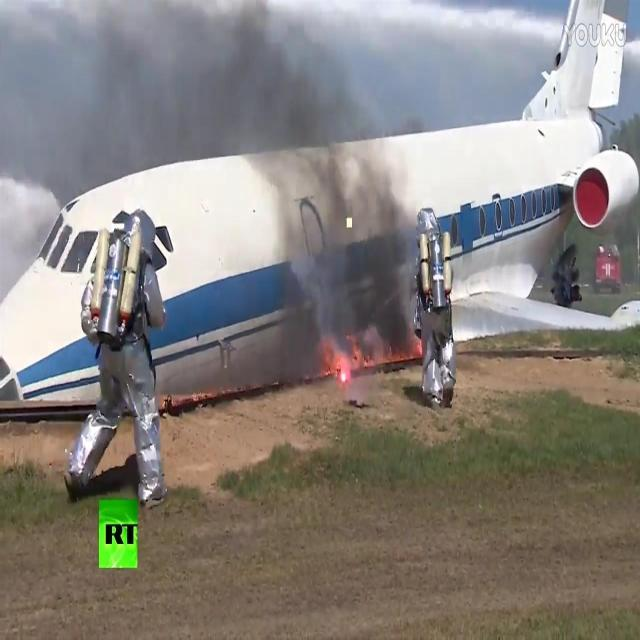Fire: (317, 336, 424, 386)
Smoke: (90, 1, 417, 327)
